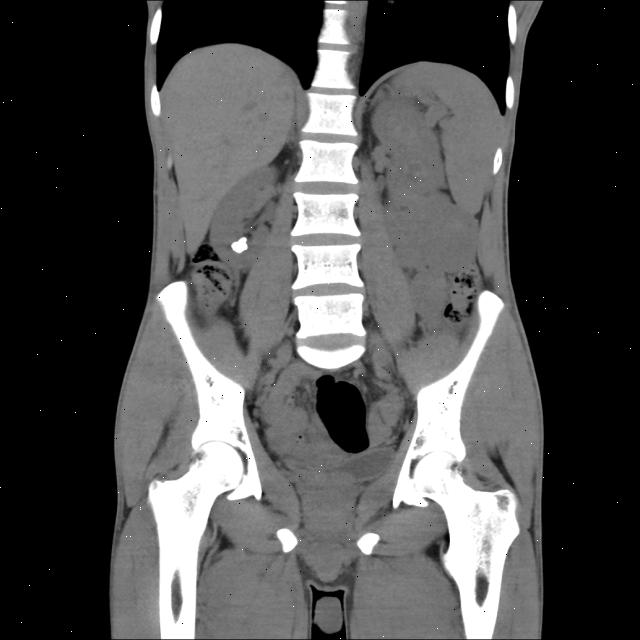kidneystone: (231, 237, 248, 253)
